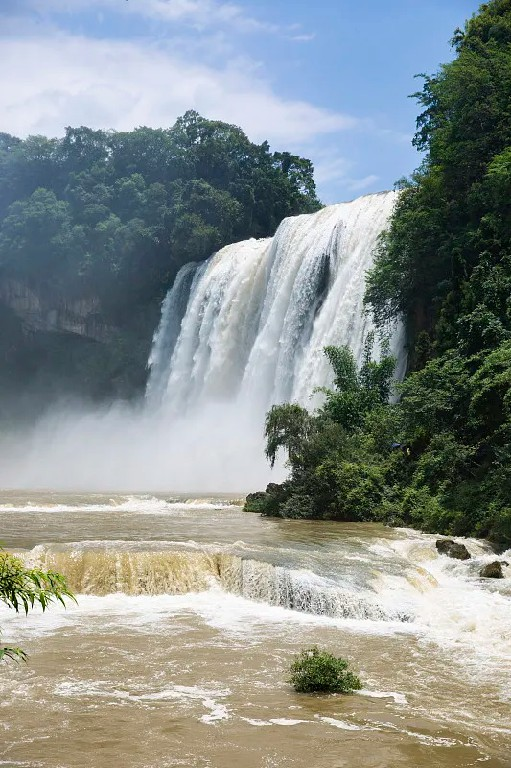Huangguoshu: (146, 191, 407, 451)
